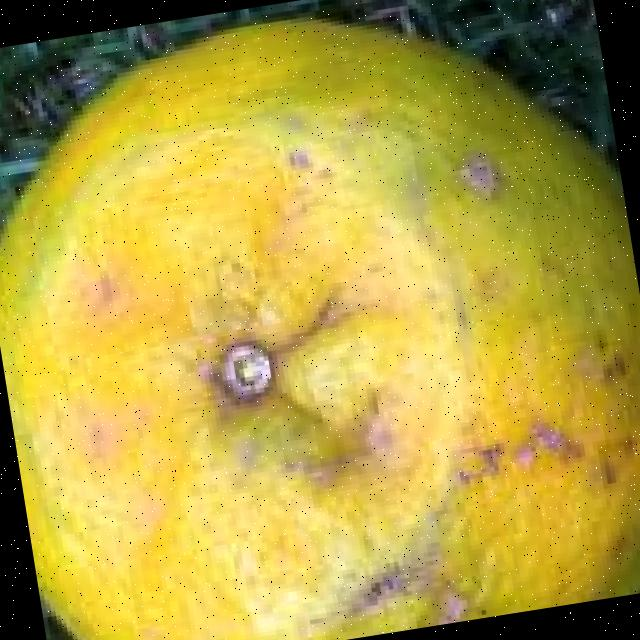Bad_Orange-0-1 day: (0, 14, 640, 640)
